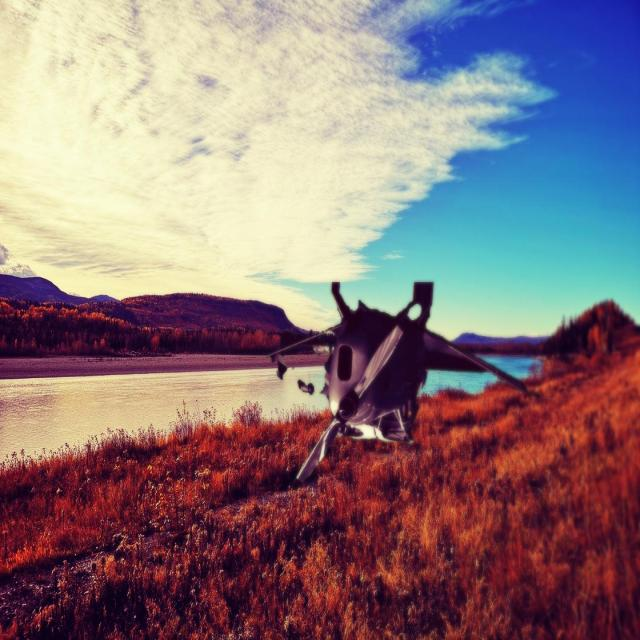airplane: (267, 279, 528, 483)
